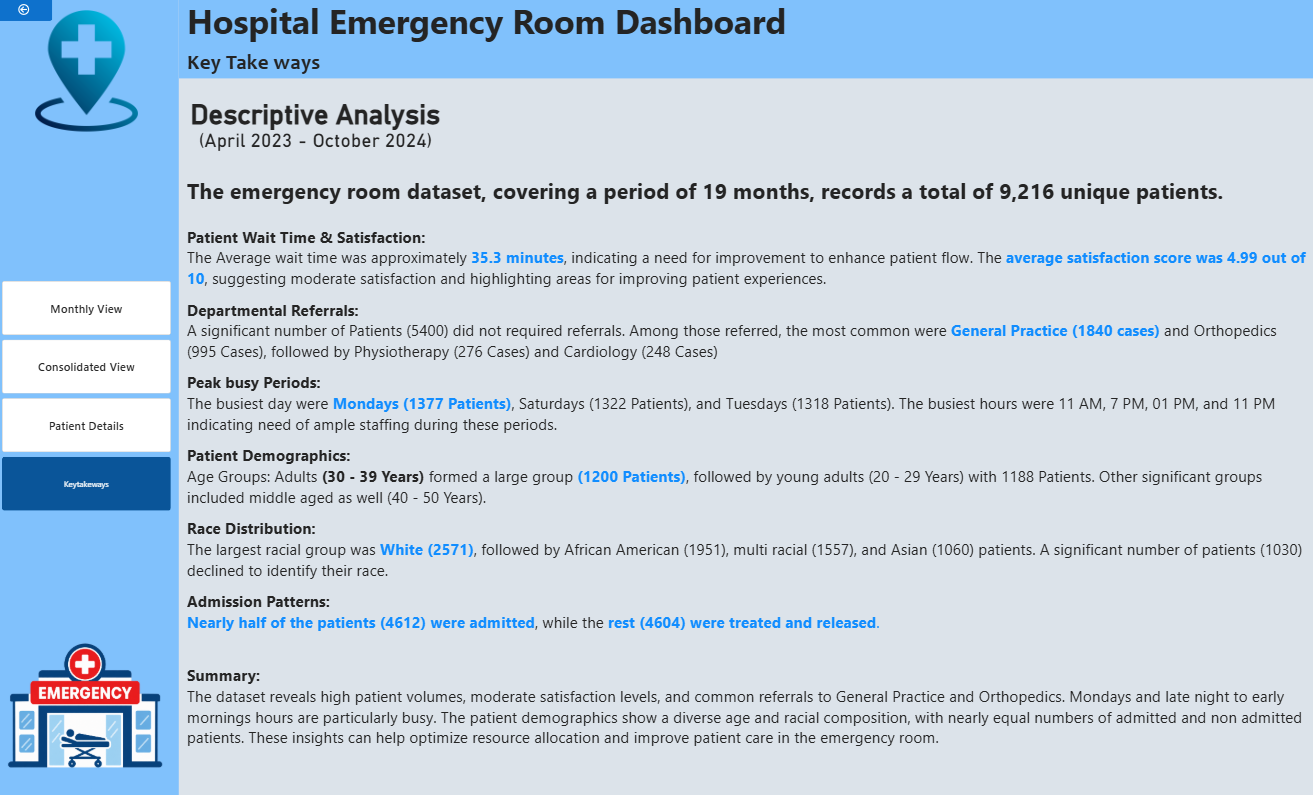

This screenshot's page, from the dashboard's own definition file:
{"tool":"powerbi","page":{"name":"Keytakeways","canvas":[2300,1400],"ordinal":3},"visuals":[{"type":"shape","box":[0,0,320.4,1400],"z":0},{"type":"shape","box":[319.8,0,1980.2,140],"z":1000},{"type":"textbox","box":[333.8,0,1101.1,87.4],"z":2000},{"type":"textbox","box":[334.3,87.1,256,47],"z":3000},{"type":"image","box":[24.4,20.9,269.9,212.4],"z":4000},{"type":"actionButton","box":[0,0,100,40],"z":5000},{"type":"pageNavigator","box":[12.2,369.2,294.3,294.3],"z":6000},{"type":"textbox","box":[320.4,174.1,475.4,116.7],"z":7000},{"type":"textbox","box":[334.3,310,1950.2,1065.7],"z":8000},{"type":"image","box":[7,1086.6,300,300],"z":8001}]}

Visuals, with their boxes on the page's 2300x1400 design canvas (x1, y1, x2, y2). These are canvas units, not pixel positions in the 1313x795 screenshot, which may show the page scaled, cropped or inside an application window:
shape: box(0, 0, 320, 1400)
shape: box(320, 0, 2300, 140)
textbox: box(334, 0, 1435, 87)
textbox: box(334, 87, 590, 134)
image: box(24, 21, 294, 233)
actionButton: box(0, 0, 100, 40)
pageNavigator: box(12, 369, 306, 664)
textbox: box(320, 174, 796, 291)
textbox: box(334, 310, 2284, 1376)
image: box(7, 1087, 307, 1387)
